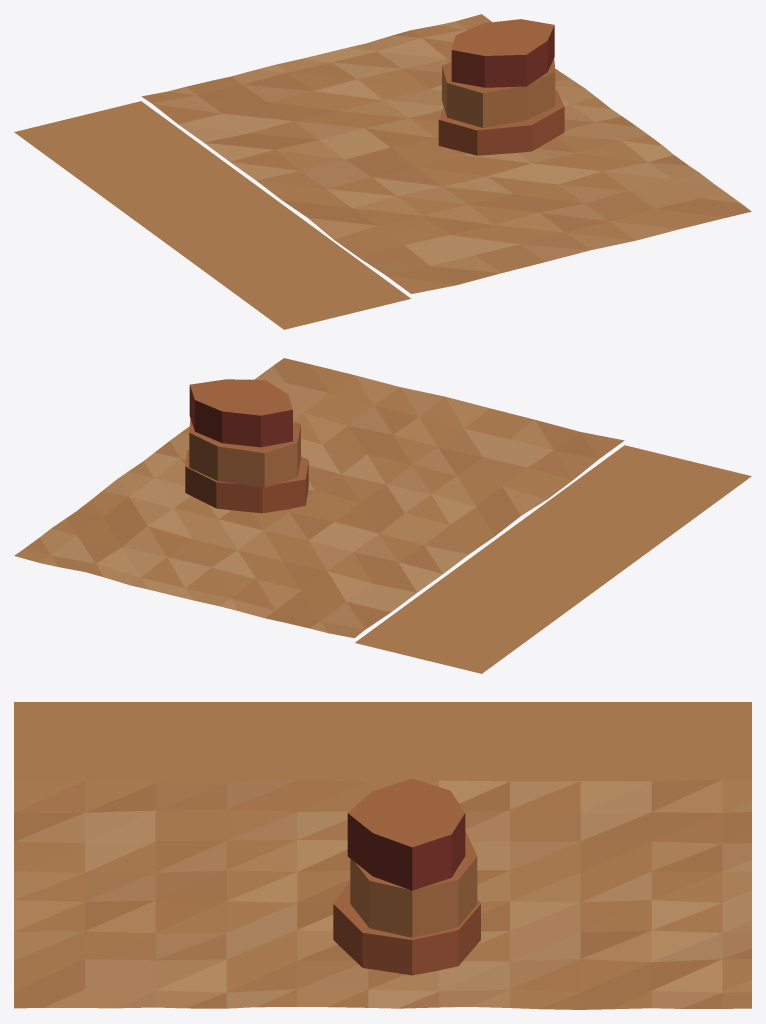
The picture shows the model from 3 angles, top to bottom: view 1: azimuth 30°, elevation 25°; view 2: azimuth 150°, elevation 25°; view 3: azimuth 270°, elevation 25°; orthographic projection. The views are drawn at different scales.
Parts seen in each view (by area): view 1: baked; view 2: baked; view 3: baked.
Boxes of the visible parts, x1=… form: baked: x1=14, y1=14, x2=751, y2=329; baked: x1=14, y1=358, x2=751, y2=673; baked: x1=14, y1=702, x2=751, y2=1009.
Bounding box in the file's own units: 125 × 24.69 × 125.
